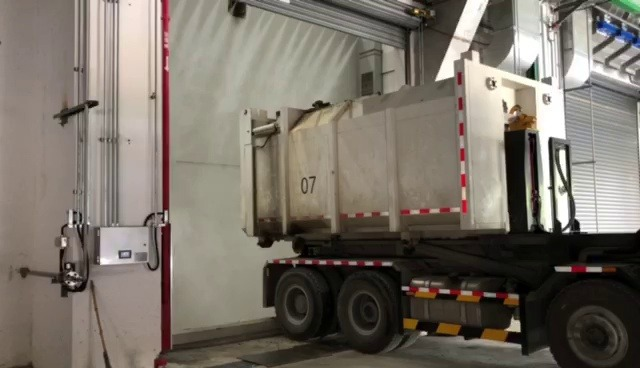dust: (171, 129, 256, 324)
truck: (234, 46, 640, 368)
